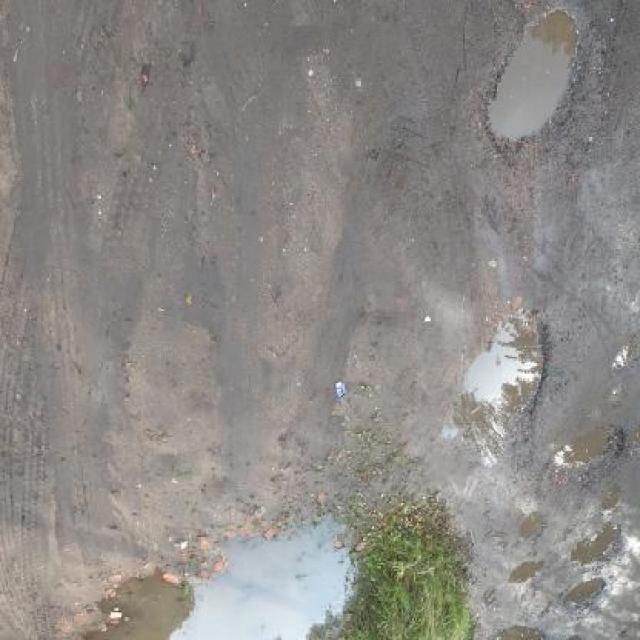Garbage: (294, 241, 305, 259)
